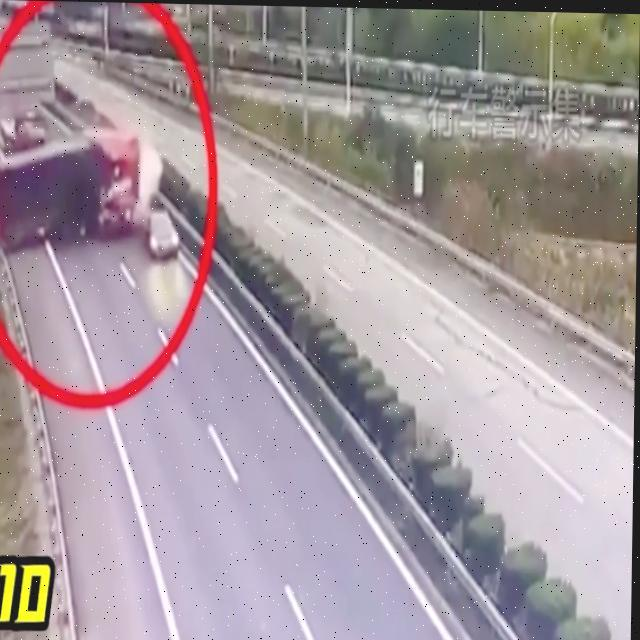multiple_accident: (9, 97, 180, 251)
